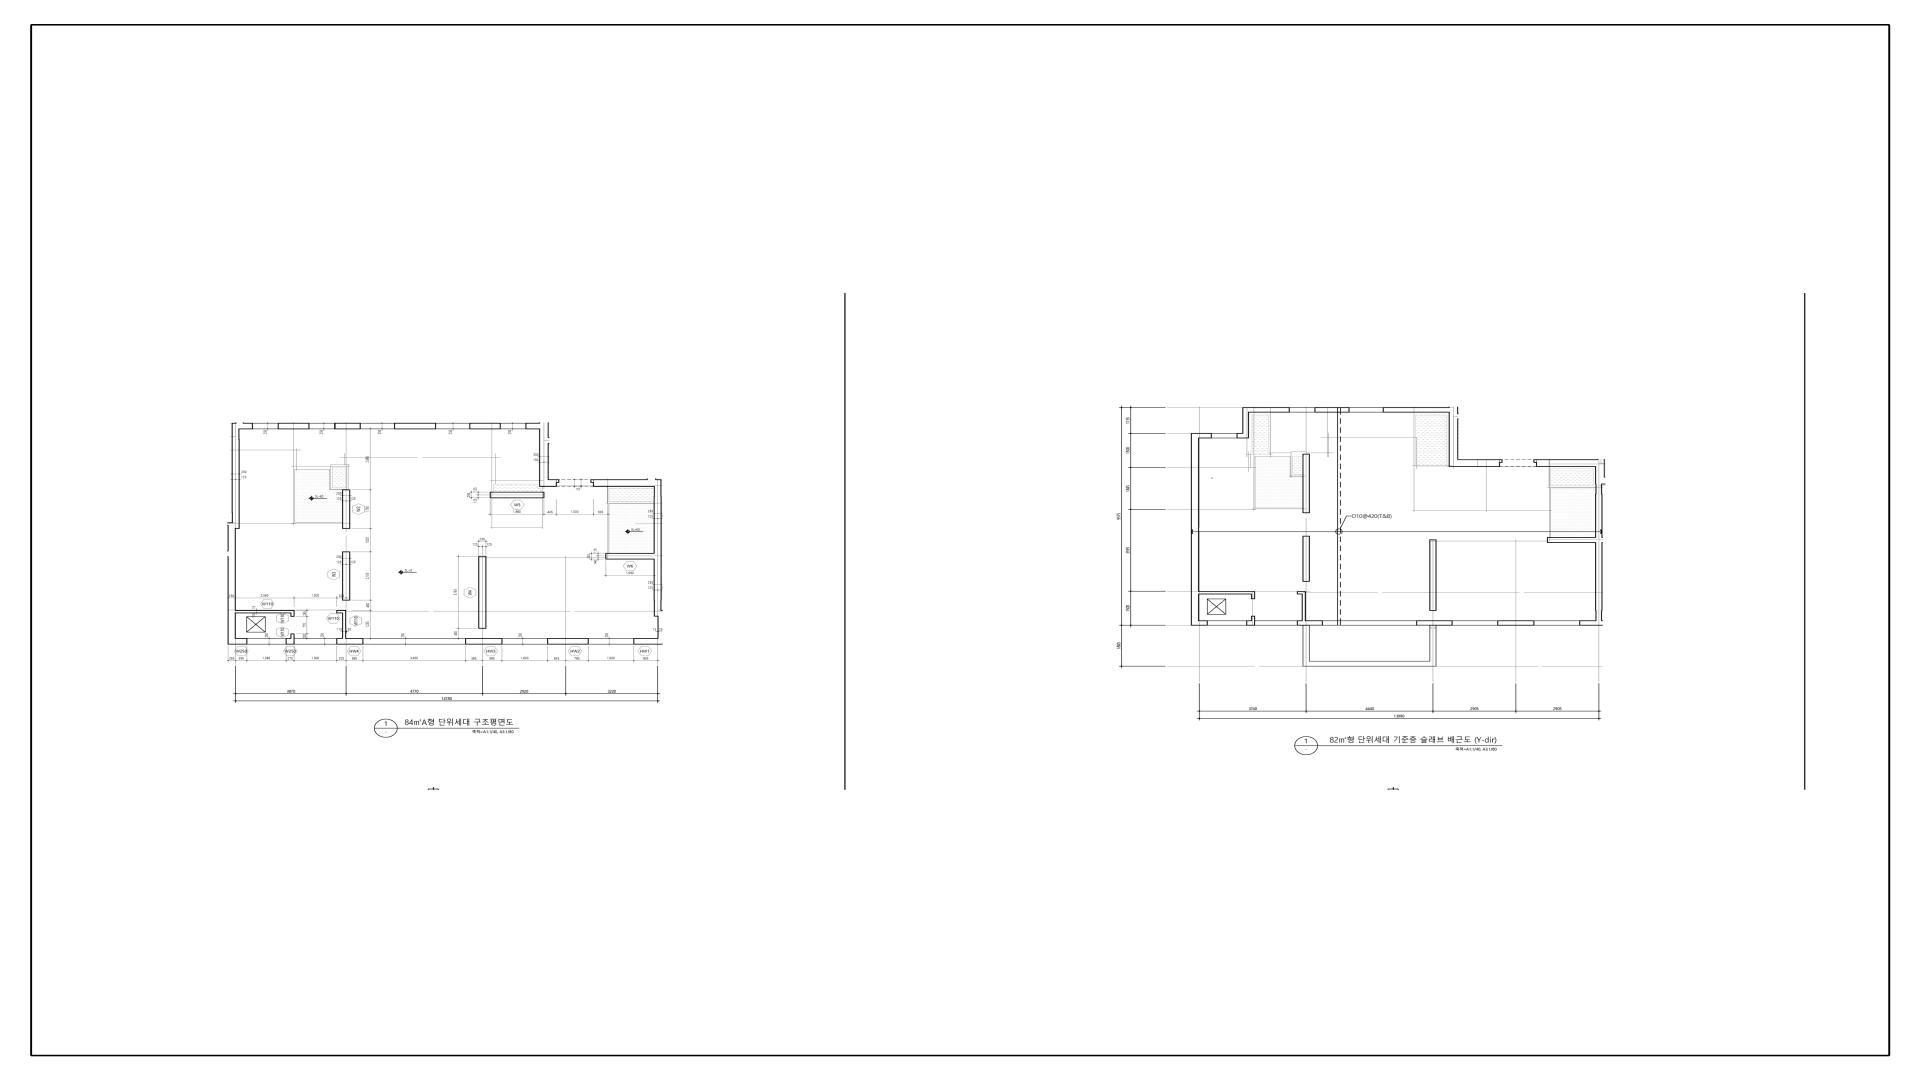wall: (1191, 438, 1199, 621), (1595, 485, 1603, 620), (654, 487, 662, 610), (228, 529, 236, 638), (232, 429, 240, 522), (478, 556, 487, 629), (1429, 540, 1437, 611), (593, 479, 662, 487), (1536, 459, 1605, 467), (539, 429, 549, 479), (1449, 413, 1458, 467), (1383, 407, 1458, 413), (1303, 454, 1310, 513), (342, 552, 350, 601), (1302, 536, 1310, 582), (605, 553, 654, 560), (1458, 459, 1500, 467), (490, 492, 545, 498), (342, 490, 350, 529), (547, 638, 589, 645), (1547, 537, 1595, 543), (465, 638, 502, 645), (394, 423, 436, 429), (1249, 407, 1290, 413), (1497, 620, 1535, 626), (1416, 620, 1453, 626), (633, 638, 663, 645), (1315, 407, 1350, 413), (1199, 591, 1251, 595), (469, 423, 501, 429), (336, 638, 363, 645), (278, 423, 309, 429), (1242, 407, 1249, 433), (1595, 467, 1605, 484), (236, 610, 290, 613), (334, 423, 361, 429), (1297, 620, 1323, 626), (539, 479, 557, 487), (1579, 620, 1603, 626), (526, 423, 549, 429), (228, 638, 247, 645), (232, 423, 253, 429), (1191, 433, 1212, 439), (658, 617, 663, 638), (342, 613, 346, 638), (1302, 595, 1306, 620), (1191, 621, 1208, 626), (228, 522, 240, 529), (286, 638, 295, 645), (654, 610, 663, 617), (1237, 433, 1249, 438), (1246, 620, 1255, 626), (1297, 591, 1306, 595), (290, 610, 295, 617), (1251, 591, 1255, 599), (336, 610, 346, 613), (290, 633, 295, 638), (1251, 616, 1255, 620), (1500, 459, 1503, 463), (1533, 459, 1536, 463), (557, 479, 559, 483), (591, 479, 593, 483)
